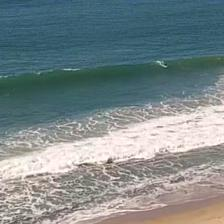surfer: (164, 63, 168, 66)
